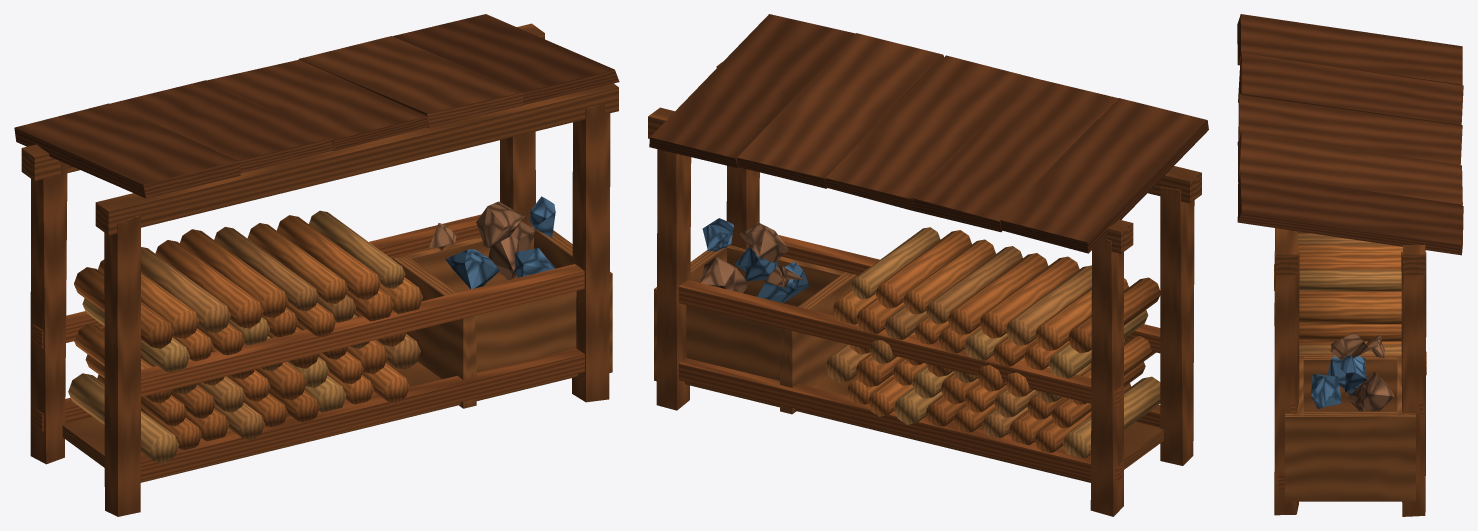
File: cordwood_ore_rack.glb
3 renders of one model, left to right at view 1: azimuth 30°, elevation 25°; view 2: azimuth 150°, elevation 25°; view 3: azimuth 270°, elevation 25°, orthographic. The views are drawn at different scales.
Visible parts, largest first — view 1: cordwood_ore_rack; view 2: cordwood_ore_rack; view 3: cordwood_ore_rack.
Part boxes in pixels (x1,y1,x2,y2): cordwood_ore_rack: [14, 14, 619, 516]; cordwood_ore_rack: [648, 14, 1208, 516]; cordwood_ore_rack: [1237, 14, 1463, 516].
Bounding box in the file's own units: 2.7 × 1.77 × 1.21.
2 materials, 2 textured.
